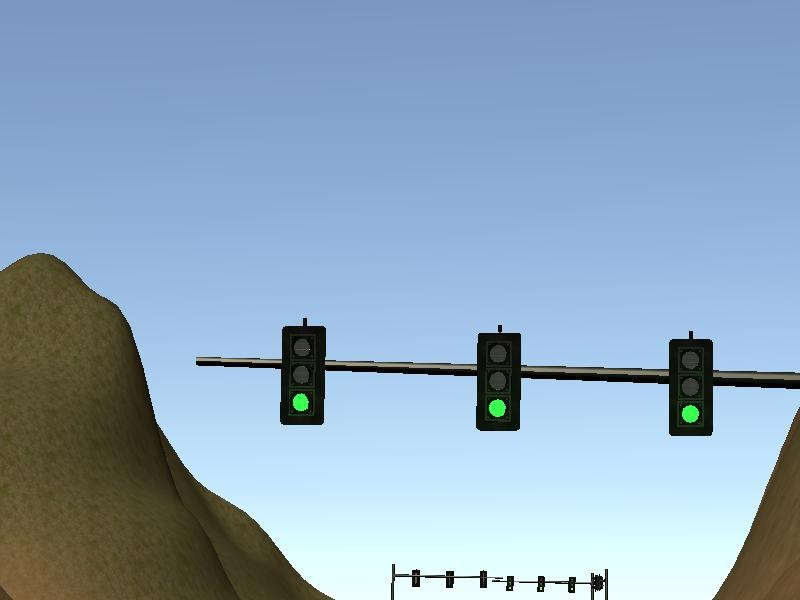GREEN: (278, 323, 330, 426), (666, 337, 715, 437), (474, 331, 522, 433)
